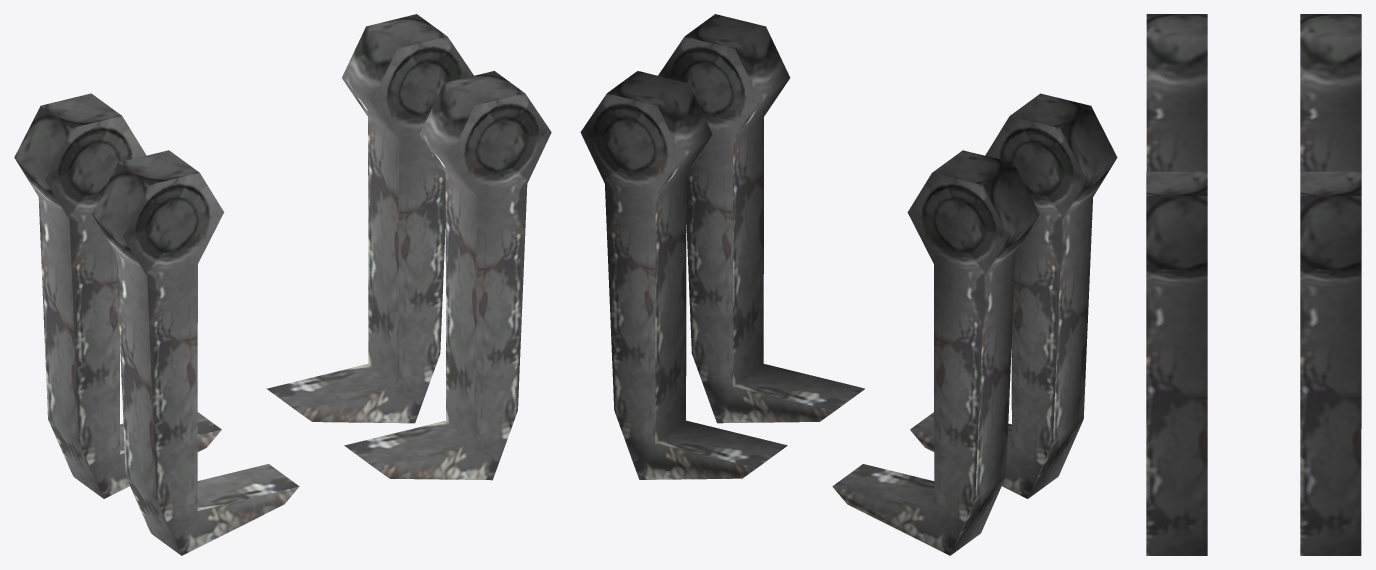
File: claw.fbx
3 views of the same model, side by side, from view 1: azimuth 30°, elevation 25°; view 2: azimuth 150°, elevation 25°; view 3: azimuth 270°, elevation 25° (orthographic).
Parts seen in each view (by area): view 1: Mesh_0095.rip; view 2: Mesh_0095.rip; view 3: Mesh_0095.rip.
Part boxes in pixels (left/top/right/bottom): Mesh_0095.rip: left=14, top=14, right=551, bottom=555; Mesh_0095.rip: left=580, top=14, right=1117, bottom=555; Mesh_0095.rip: left=1146, top=14, right=1361, bottom=555.
Size of the model in its own units: 320 by 270 by 141.
Materials: 2 (2 with a texture image).
